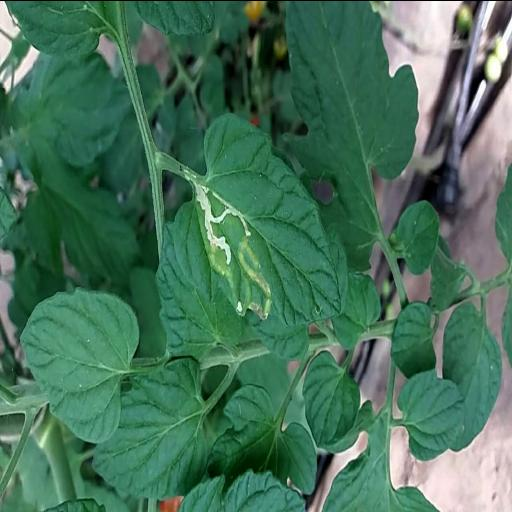disease_tomato: (191, 108, 340, 332)
